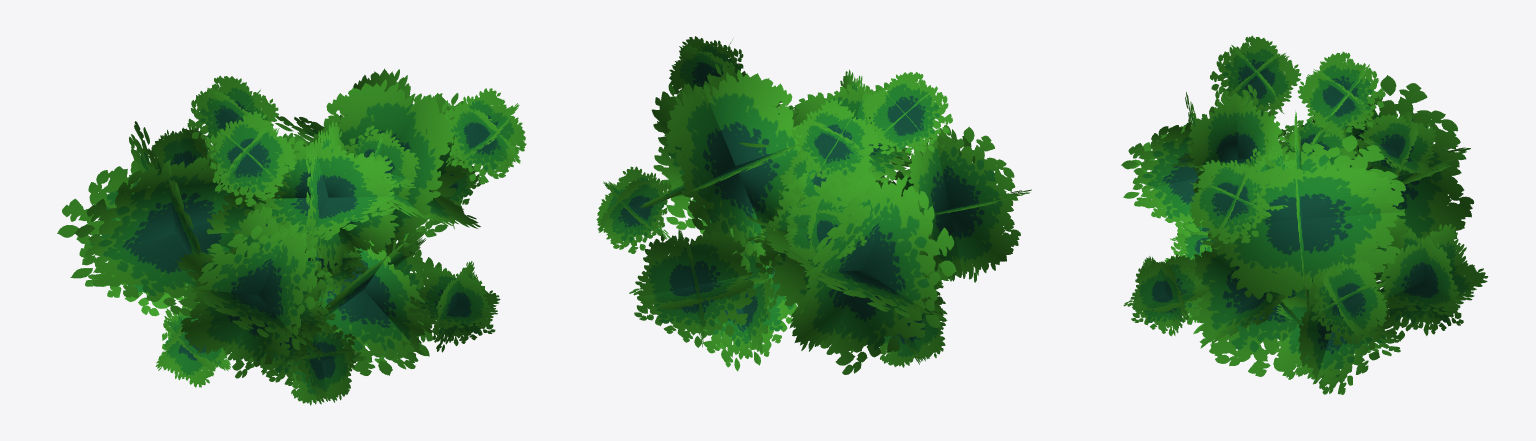
The model's file is modify_normal.fbx.
3 renders of one model, left to right at view 1: azimuth 30°, elevation 25°; view 2: azimuth 150°, elevation 25°; view 3: azimuth 270°, elevation 25°, orthographic. The views are drawn at different scales.
Parts seen in each view (by area): view 1: 平面.006; view 2: 平面.006; view 3: 平面.006.
Part boxes in pixels (<box>): 平面.006: <box>57,68,526,405</box>; 平面.006: <box>596,36,1031,374</box>; 平面.006: <box>1121,35,1488,394</box>.
Size of the model in its own units: 1003 by 810 by 880.
